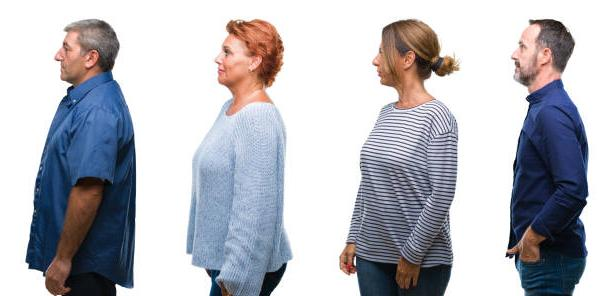long sleeve shirt: (343, 96, 463, 265), (506, 78, 592, 259)
short sleeve shirt: (23, 68, 140, 289)
sweater: (184, 90, 294, 296)
trousers: (355, 256, 455, 296), (513, 253, 589, 296), (203, 259, 289, 296), (60, 276, 116, 296)
